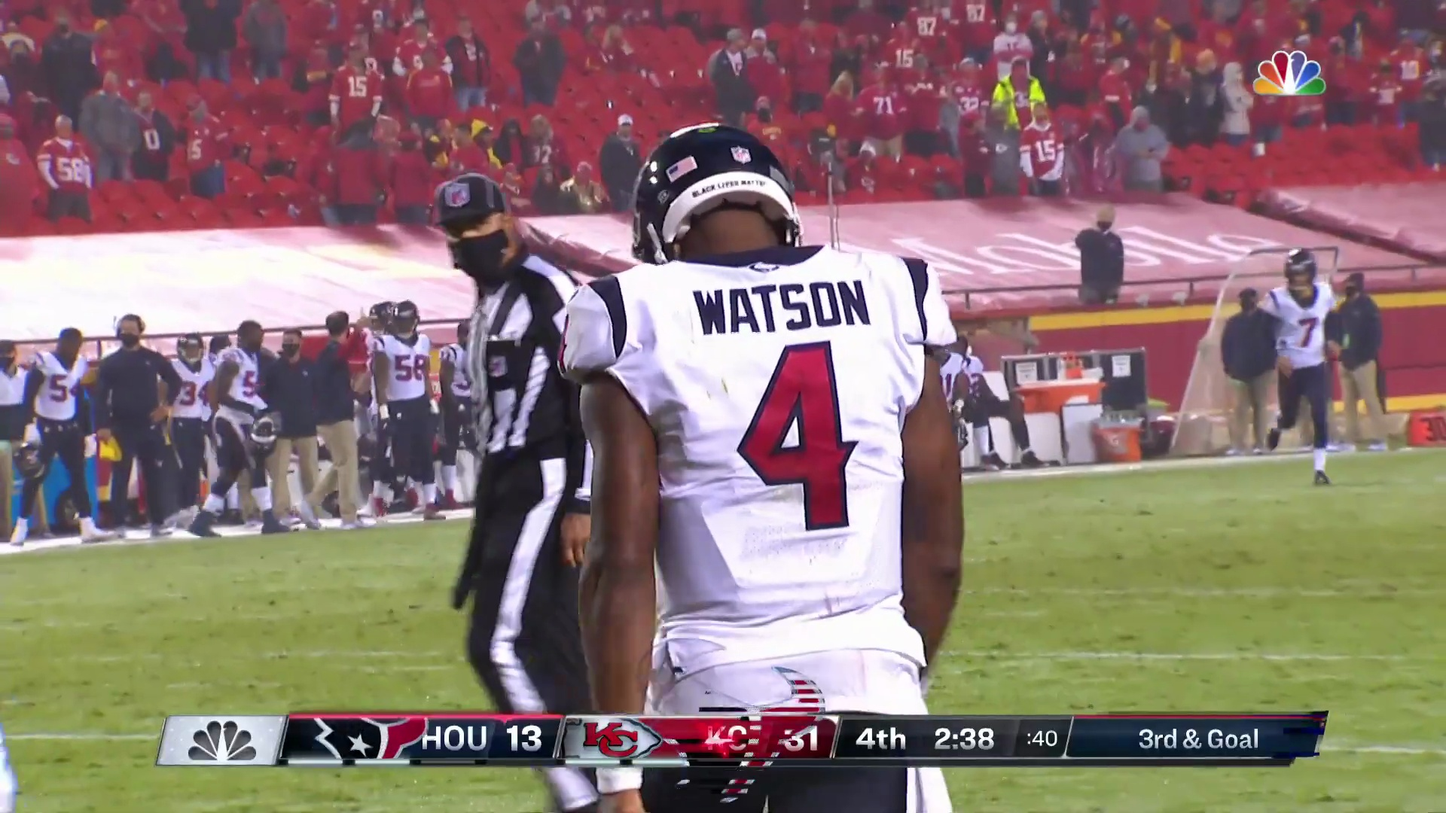Player: (535, 150, 1002, 680), (1010, 57, 1032, 133), (0, 723, 17, 812)
